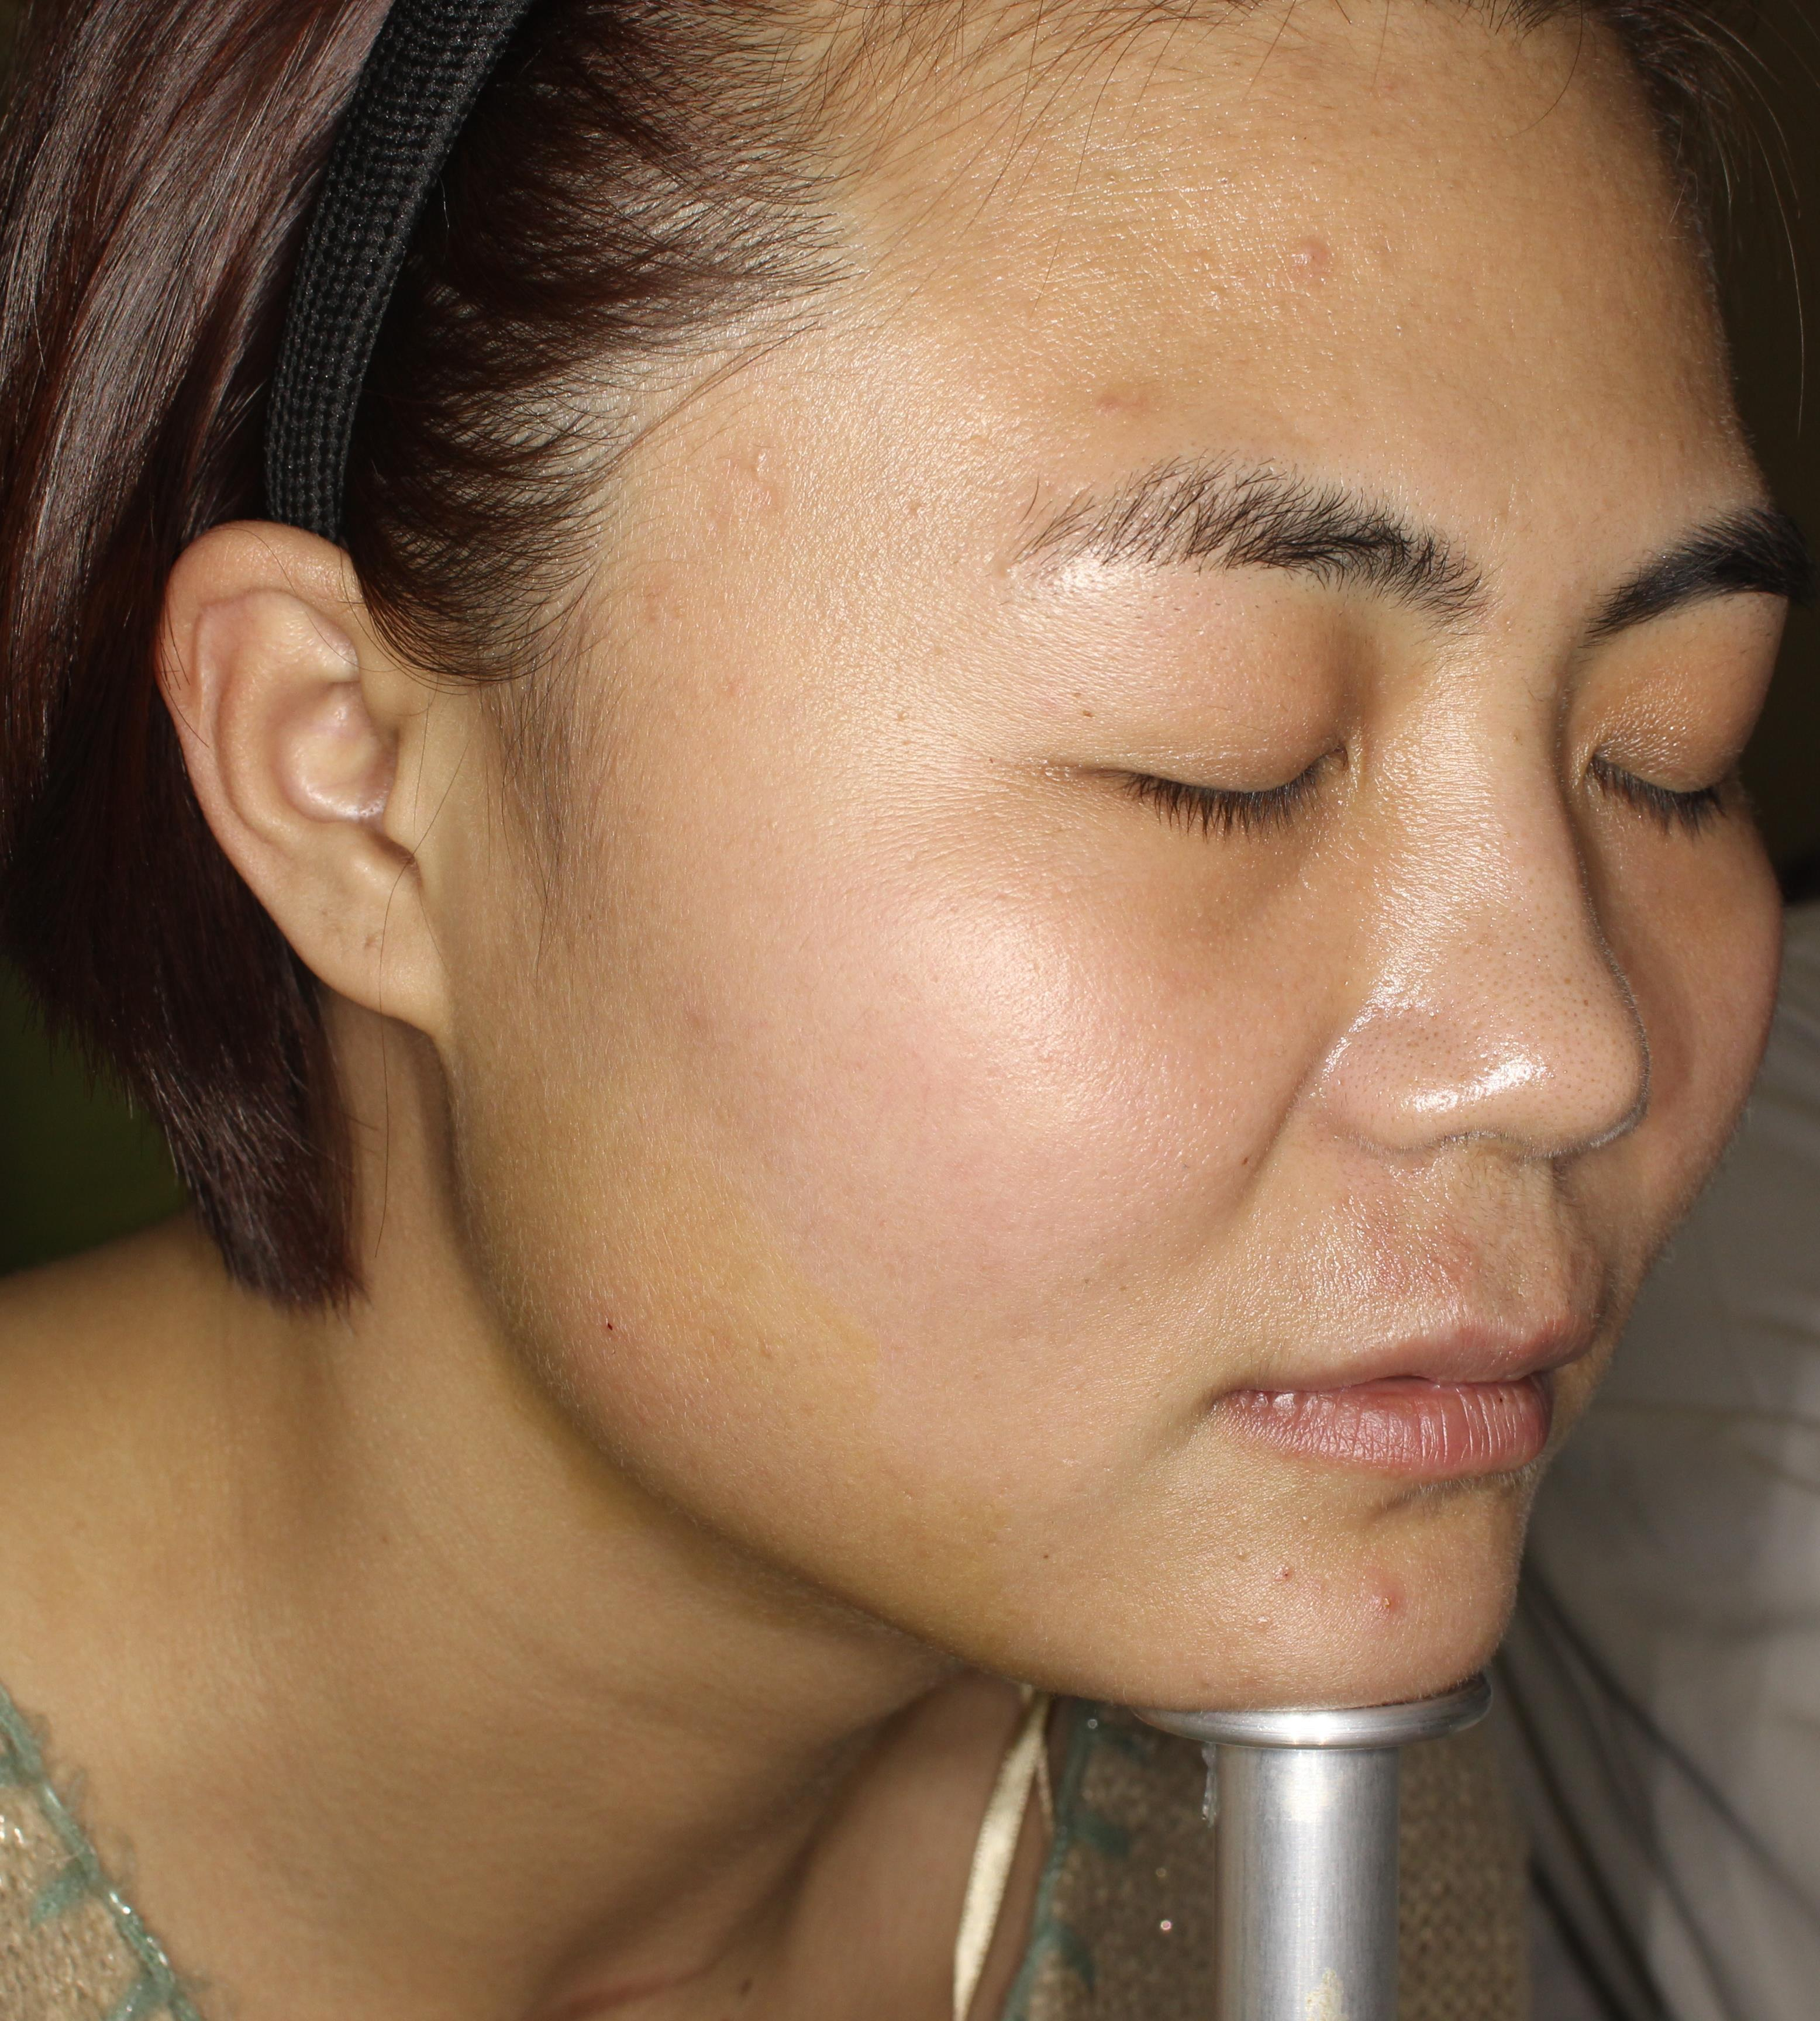fore: (1354, 1554, 1426, 1658)
